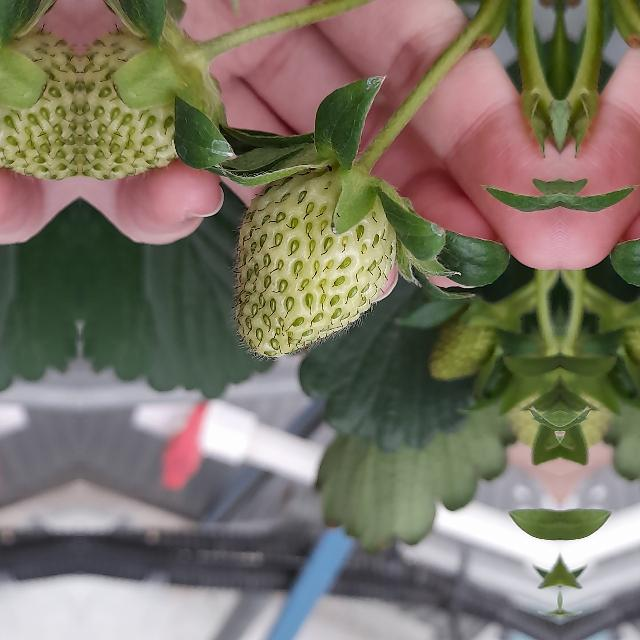Health_25: (234, 164, 396, 356)
